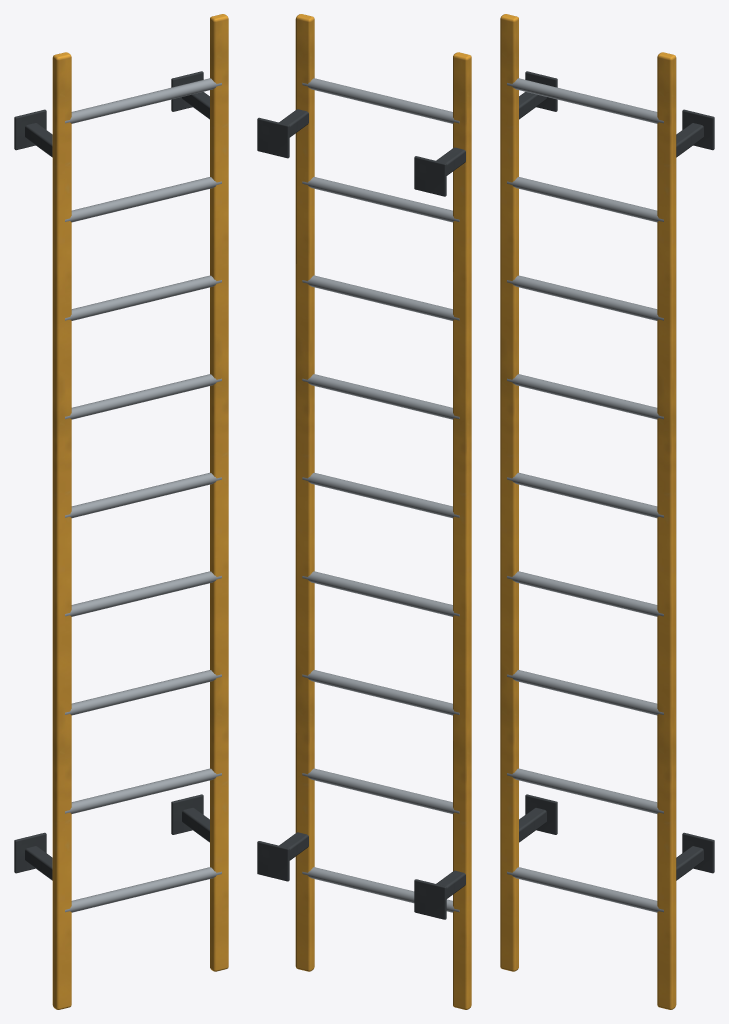
The model's file is Ladder.glb.
3 renders of one model, left to right at view 1: azimuth 30°, elevation 25°; view 2: azimuth 150°, elevation 25°; view 3: azimuth 330°, elevation 25°, orthographic.
Visible parts, largest first — view 1: Ladder_Body; view 2: Ladder_Body; view 3: Ladder_Body.
Boxes of the visible parts, x1=… form: Ladder_Body: x1=14, y1=14, x2=228, y2=1009; Ladder_Body: x1=257, y1=14, x2=471, y2=1009; Ladder_Body: x1=500, y1=14, x2=714, y2=1009.
Bounding box in the file's own units: 0.6 × 2.9 × 0.196.
3 materials, 2 textured.
